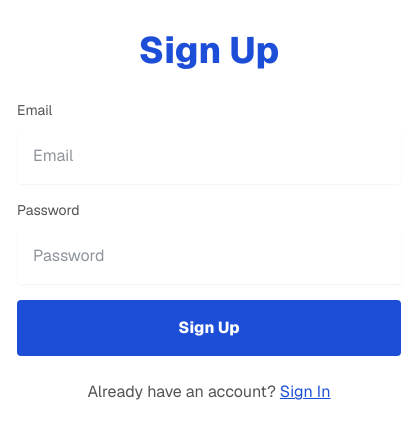
Test: SignUp page › shows a generic error and logs when fetch throws
The width and height of the screenshot is (419, 437).
Step 1. Type "a@b.com" into the field labelled "Email" → (209, 156), box [17, 128, 401, 184]
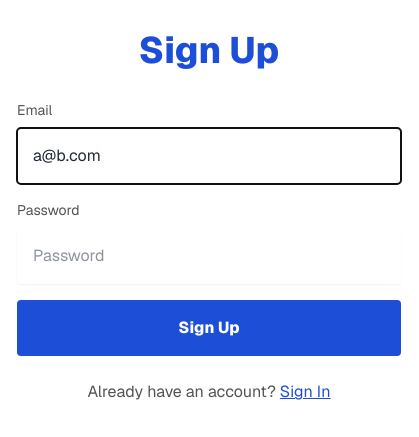
Step 2. Type "ChrisIsTheBest42!" into the password field labelled "Password" → (209, 256), box [17, 228, 401, 284]
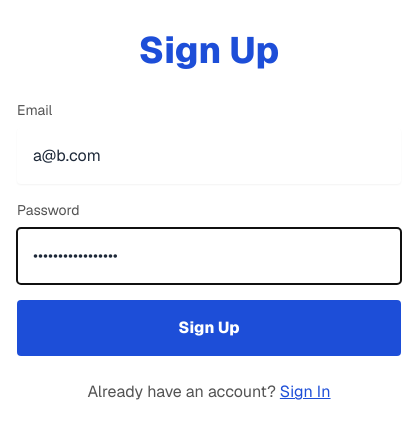
Step 3. Click the button "Sign Up" → (209, 328), box [17, 300, 401, 356]
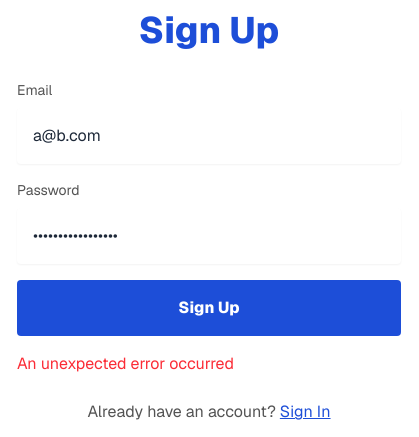
Result: the text "An unexpected error occurred" is shown at [17, 353, 234, 374]
